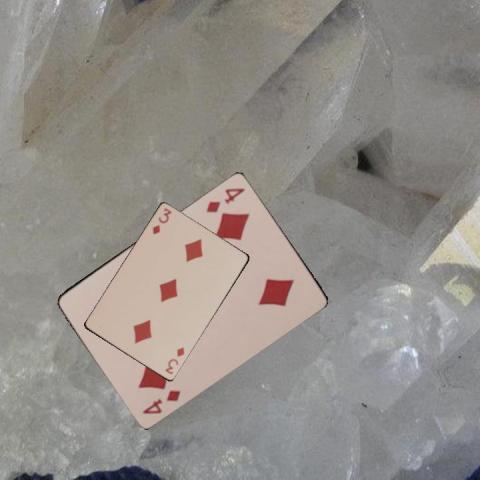3d: (162, 344, 186, 376), (150, 205, 174, 236)
4d: (202, 184, 246, 214), (139, 386, 182, 415)
